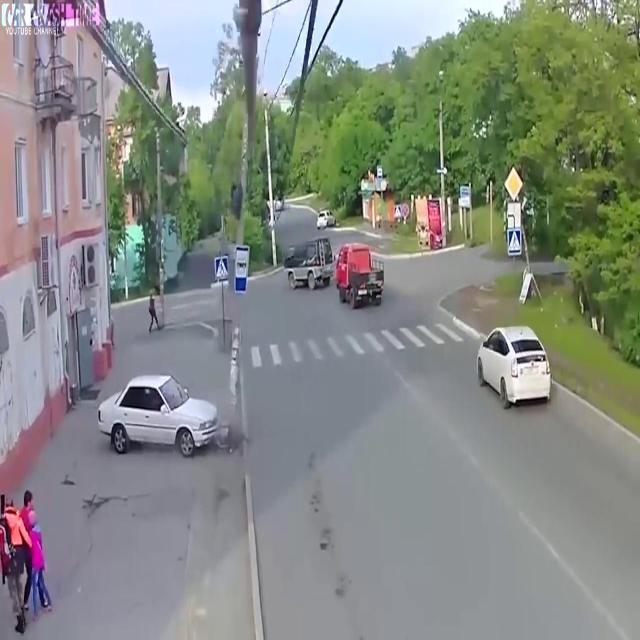accident: (89, 358, 251, 477)
non_accident: (279, 232, 389, 315)
